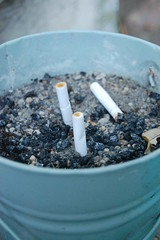cigarette: (89, 80, 124, 120), (53, 80, 73, 128), (74, 112, 87, 156)
